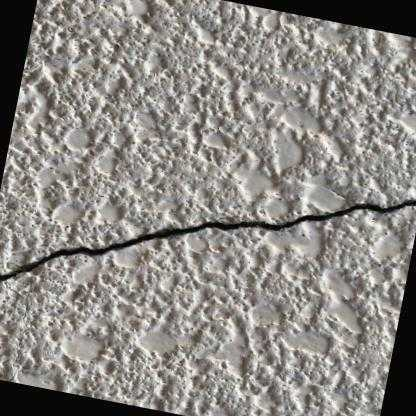crack: (0, 194, 416, 281)
